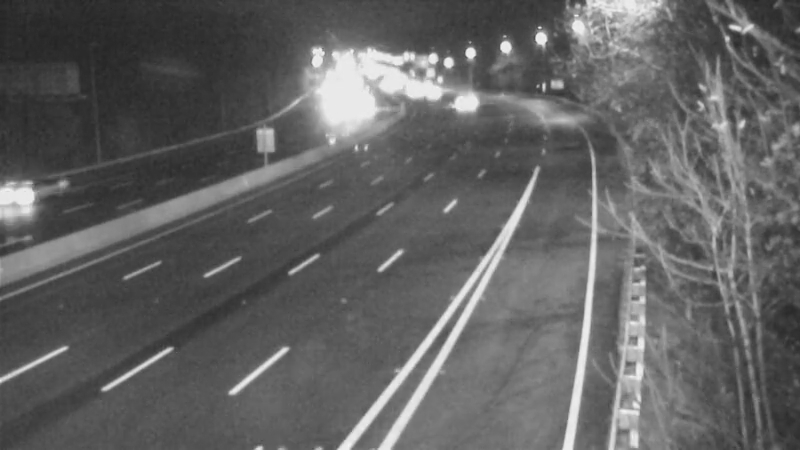vehicle: (1, 149, 71, 229), (435, 73, 485, 123)
